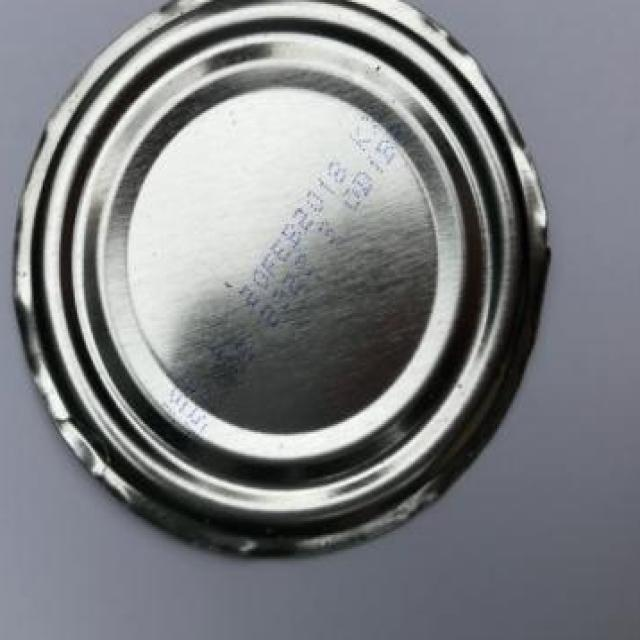organic: (21, 11, 552, 569)
